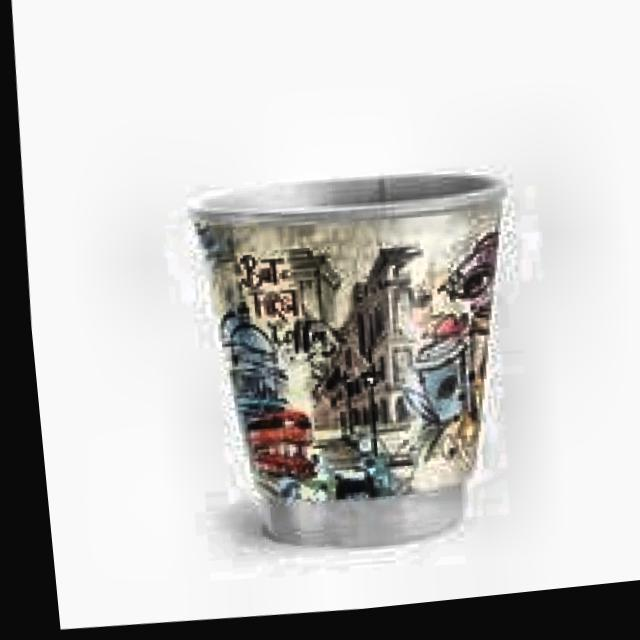Cup: (160, 146, 525, 588)
